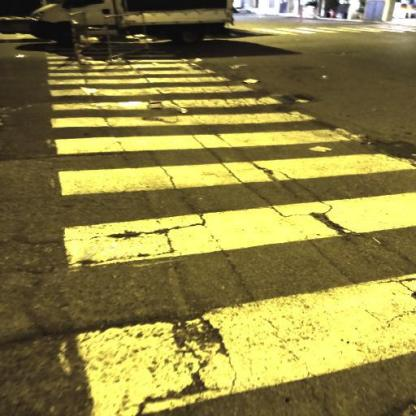crosswalk: (52, 189, 415, 415), (34, 108, 368, 161)
